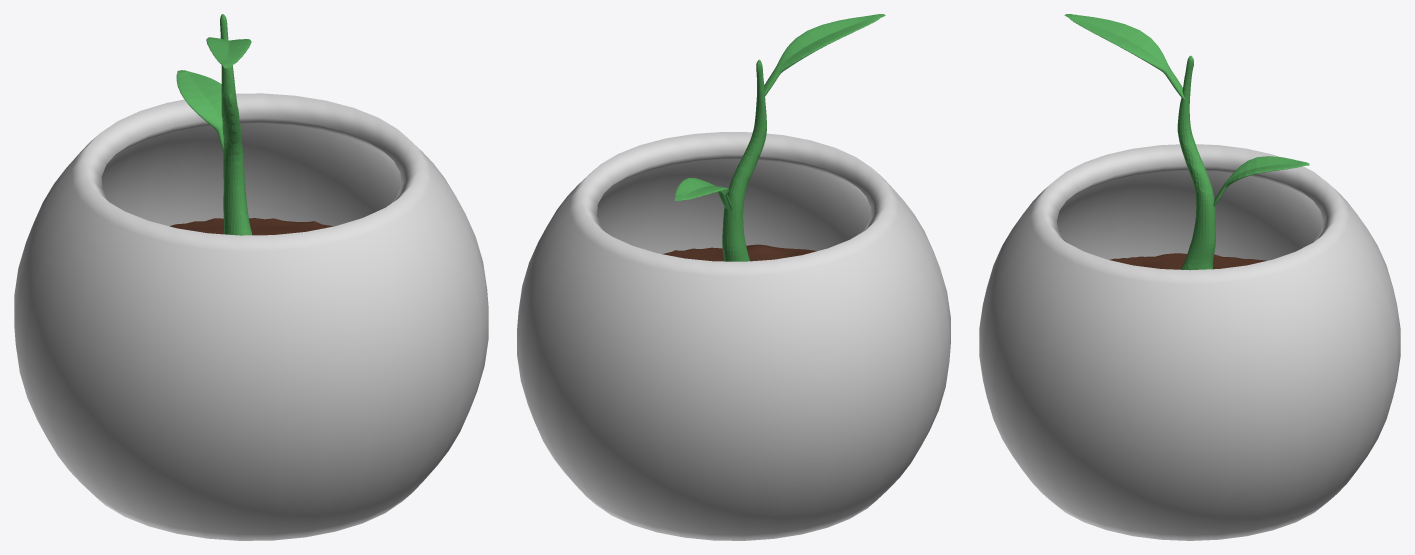
Rendered from fase3.fbx.
The picture shows the model from 3 angles, left to right: view 1: azimuth 30°, elevation 25°; view 2: azimuth 150°, elevation 25°; view 3: azimuth 270°, elevation 25°; orthographic projection. The views are drawn at different scales.
Parts seen in each view (by area): view 1: Cylinder, Plane.003, Cylinder.001; view 2: Cylinder, Plane.003, Cylinder.001; view 3: Cylinder, Plane.003, Cylinder.001.
Part boxes in pixels (x1=…): Cylinder: x1=14, y1=93, x2=488, y2=540; Plane.003: x1=176, y1=14, x2=252, y2=235; Cylinder.001: x1=169, y1=218, x2=333, y2=235; Cylinder: x1=517, y1=132, x2=950, y2=540; Plane.003: x1=674, y1=14, x2=885, y2=261; Cylinder.001: x1=662, y1=244, x2=816, y2=261; Cylinder: x1=979, y1=144, x2=1400, y2=540; Plane.003: x1=1064, y1=14, x2=1309, y2=270; Cylinder.001: x1=1109, y1=253, x2=1266, y2=269.
Bounding box in the file's own units: 233 × 257 × 233.
